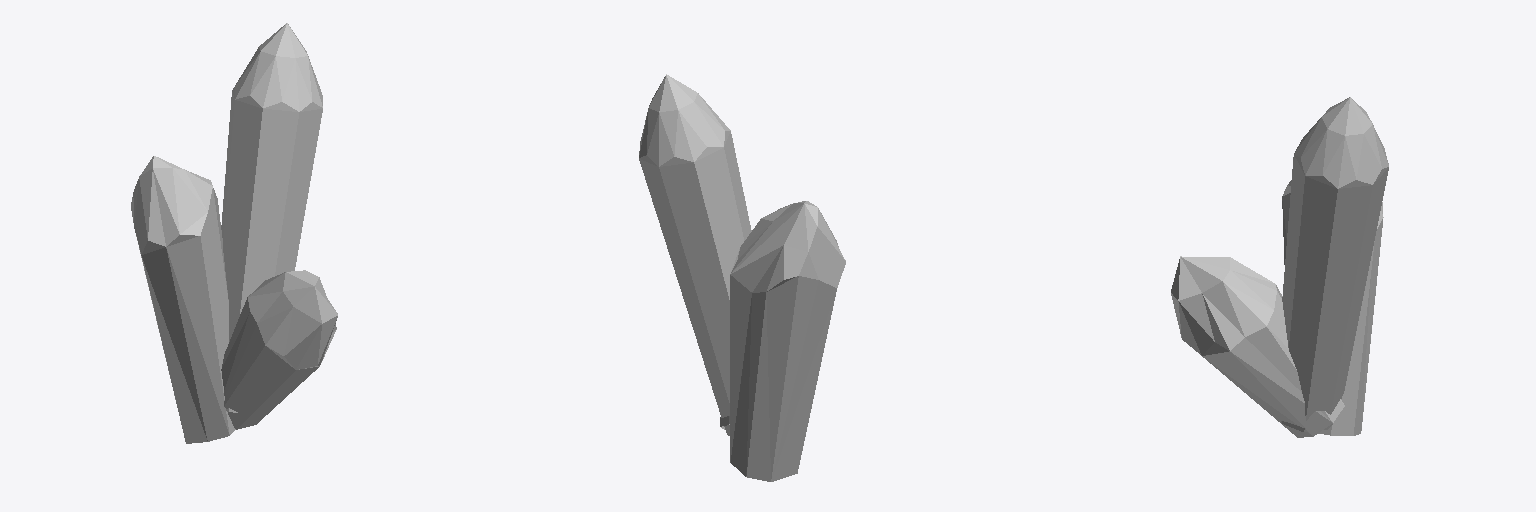
File: healthCrystal.obj
3 renders of one model, left to right at view 1: azimuth 30°, elevation 25°; view 2: azimuth 150°, elevation 25°; view 3: azimuth 270°, elevation 25°, orthographic.
Visible parts, largest first — view 1: SmallCrystal_Cone.028; view 2: SmallCrystal_Cone.028; view 3: SmallCrystal_Cone.028.
Boxes of the visible parts, box(x1,y1,x2,y2) form: SmallCrystal_Cone.028: box(131, 23, 337, 443); SmallCrystal_Cone.028: box(639, 74, 845, 481); SmallCrystal_Cone.028: box(1171, 97, 1388, 437).
Size of the model in its own units: 2.36 by 4.62 by 2.39.